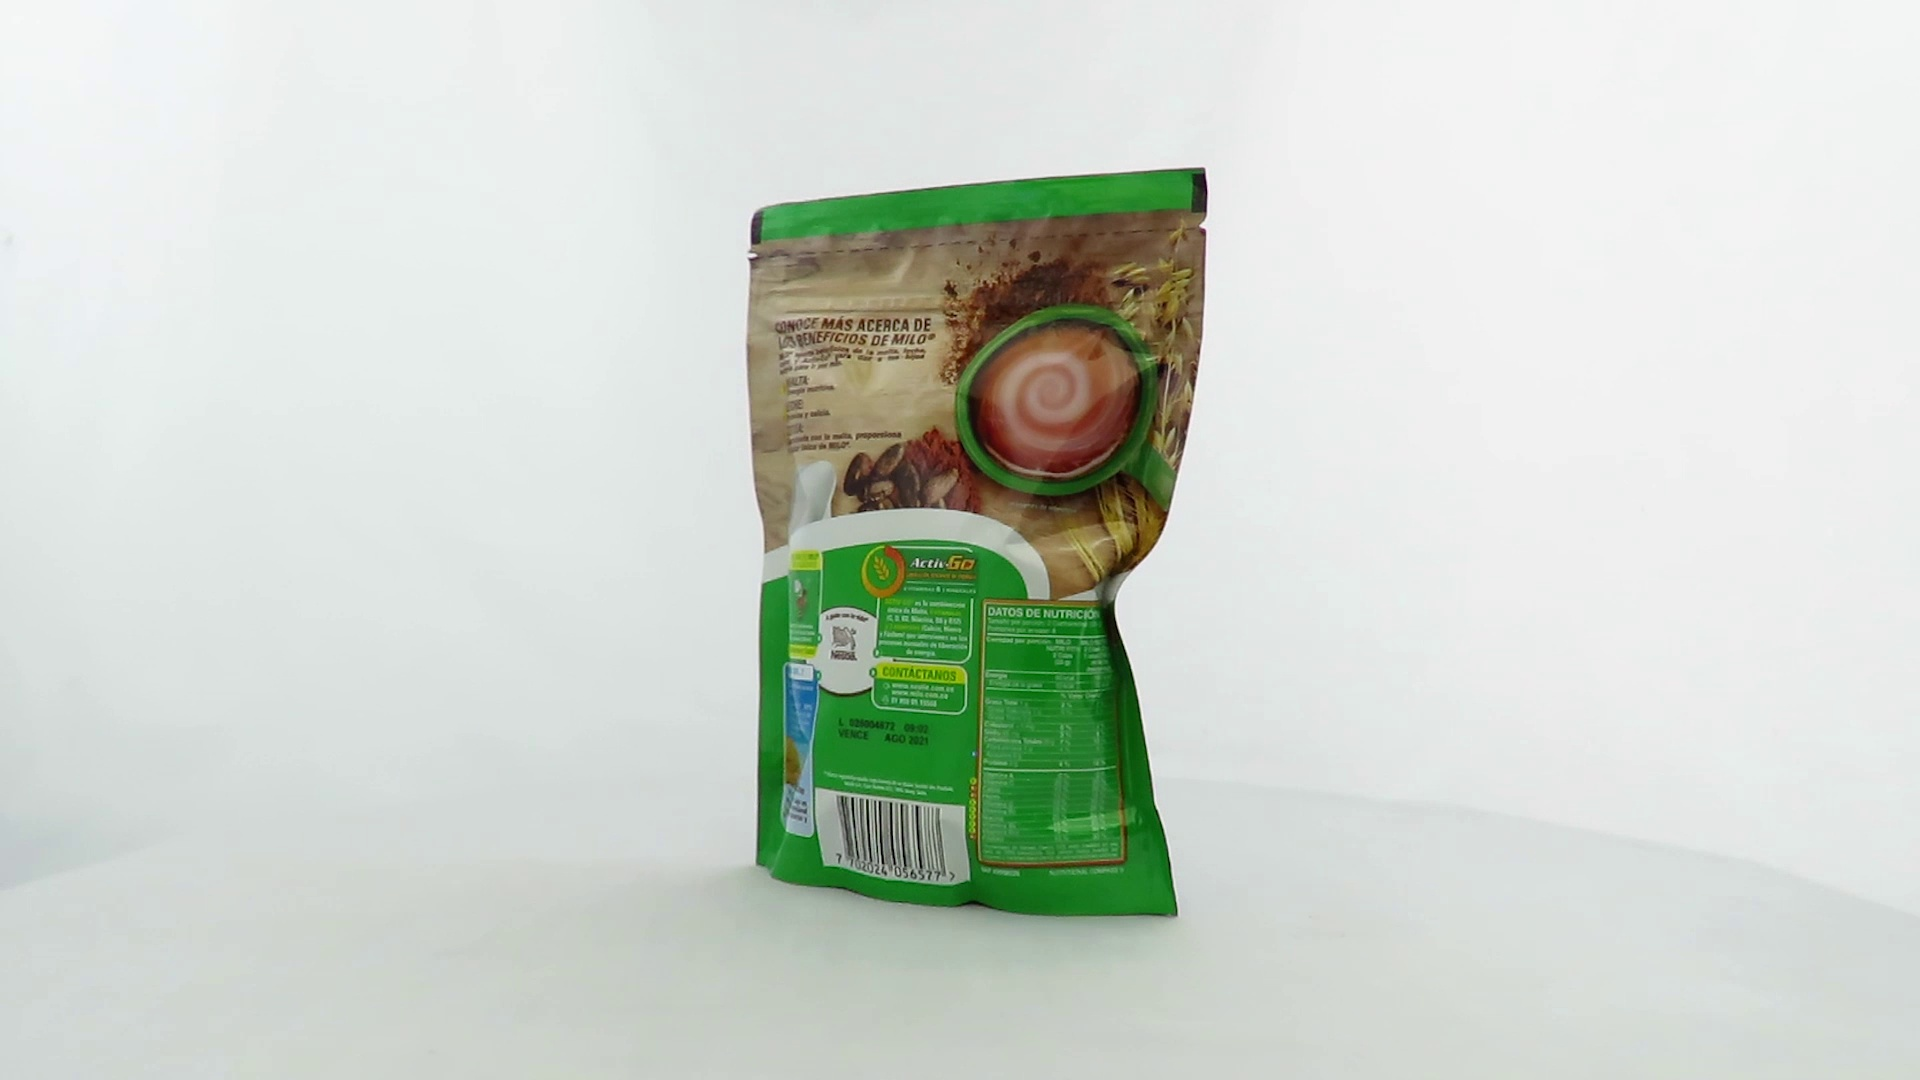COL0170205DYP20000: (741, 162, 1215, 924)
